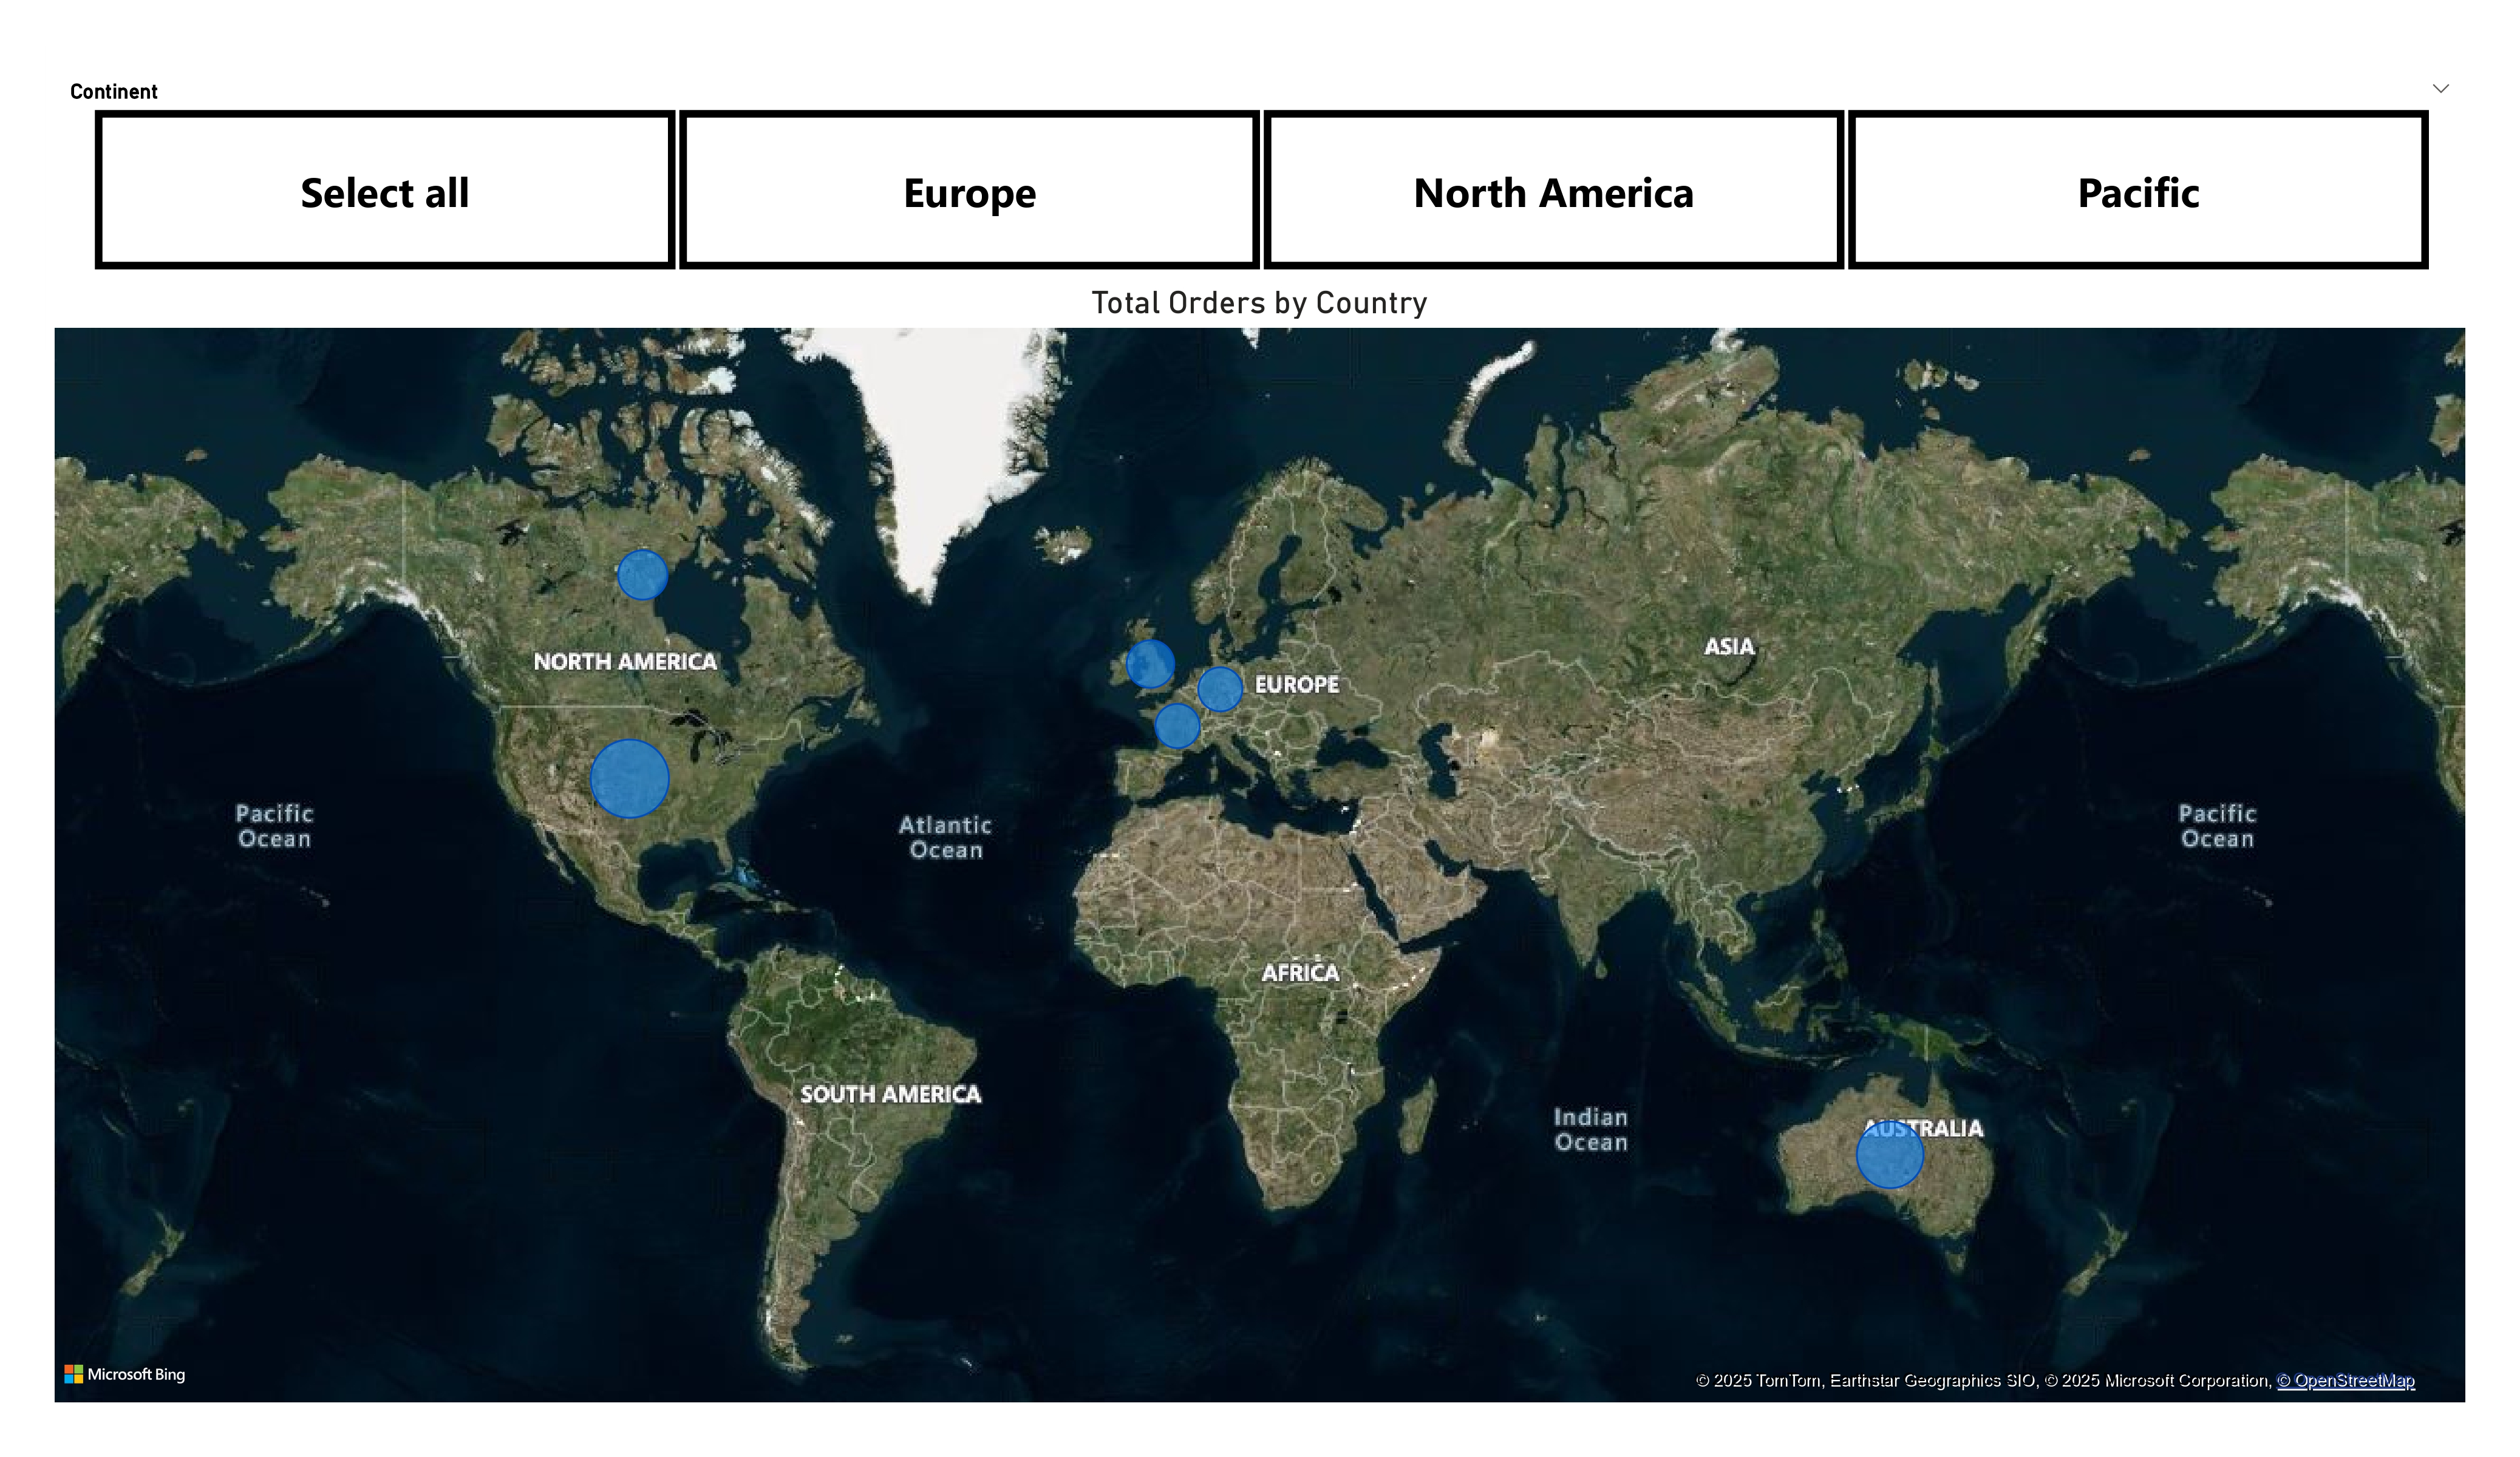

What the dashboard file says about the page in this screenshot:
{"tool":"powerbi","page":{"name":"Total Order By Country","canvas":[1280,720],"ordinal":3},"visuals":[{"type":"map","fields":{"Category":["Territory Lookup.Country"],"Size":["MEASURE_TABLE.Total Orders"]},"box":[0,125,1279.7,595.3],"z":0},{"type":"slicer","fields":{"Values":["Territory Lookup.Continent"]},"box":[0,13.5,1280.3,111.3],"z":1000}]}

Visuals, with their boxes in screenshot pixels (x1, y1, x2, y2):
map - Territory Lookup.Country x MEASURE_TABLE.Total Orders: (46,283,2474,1411)
slicer - Territory Lookup.Continent: (46,71,2474,282)
